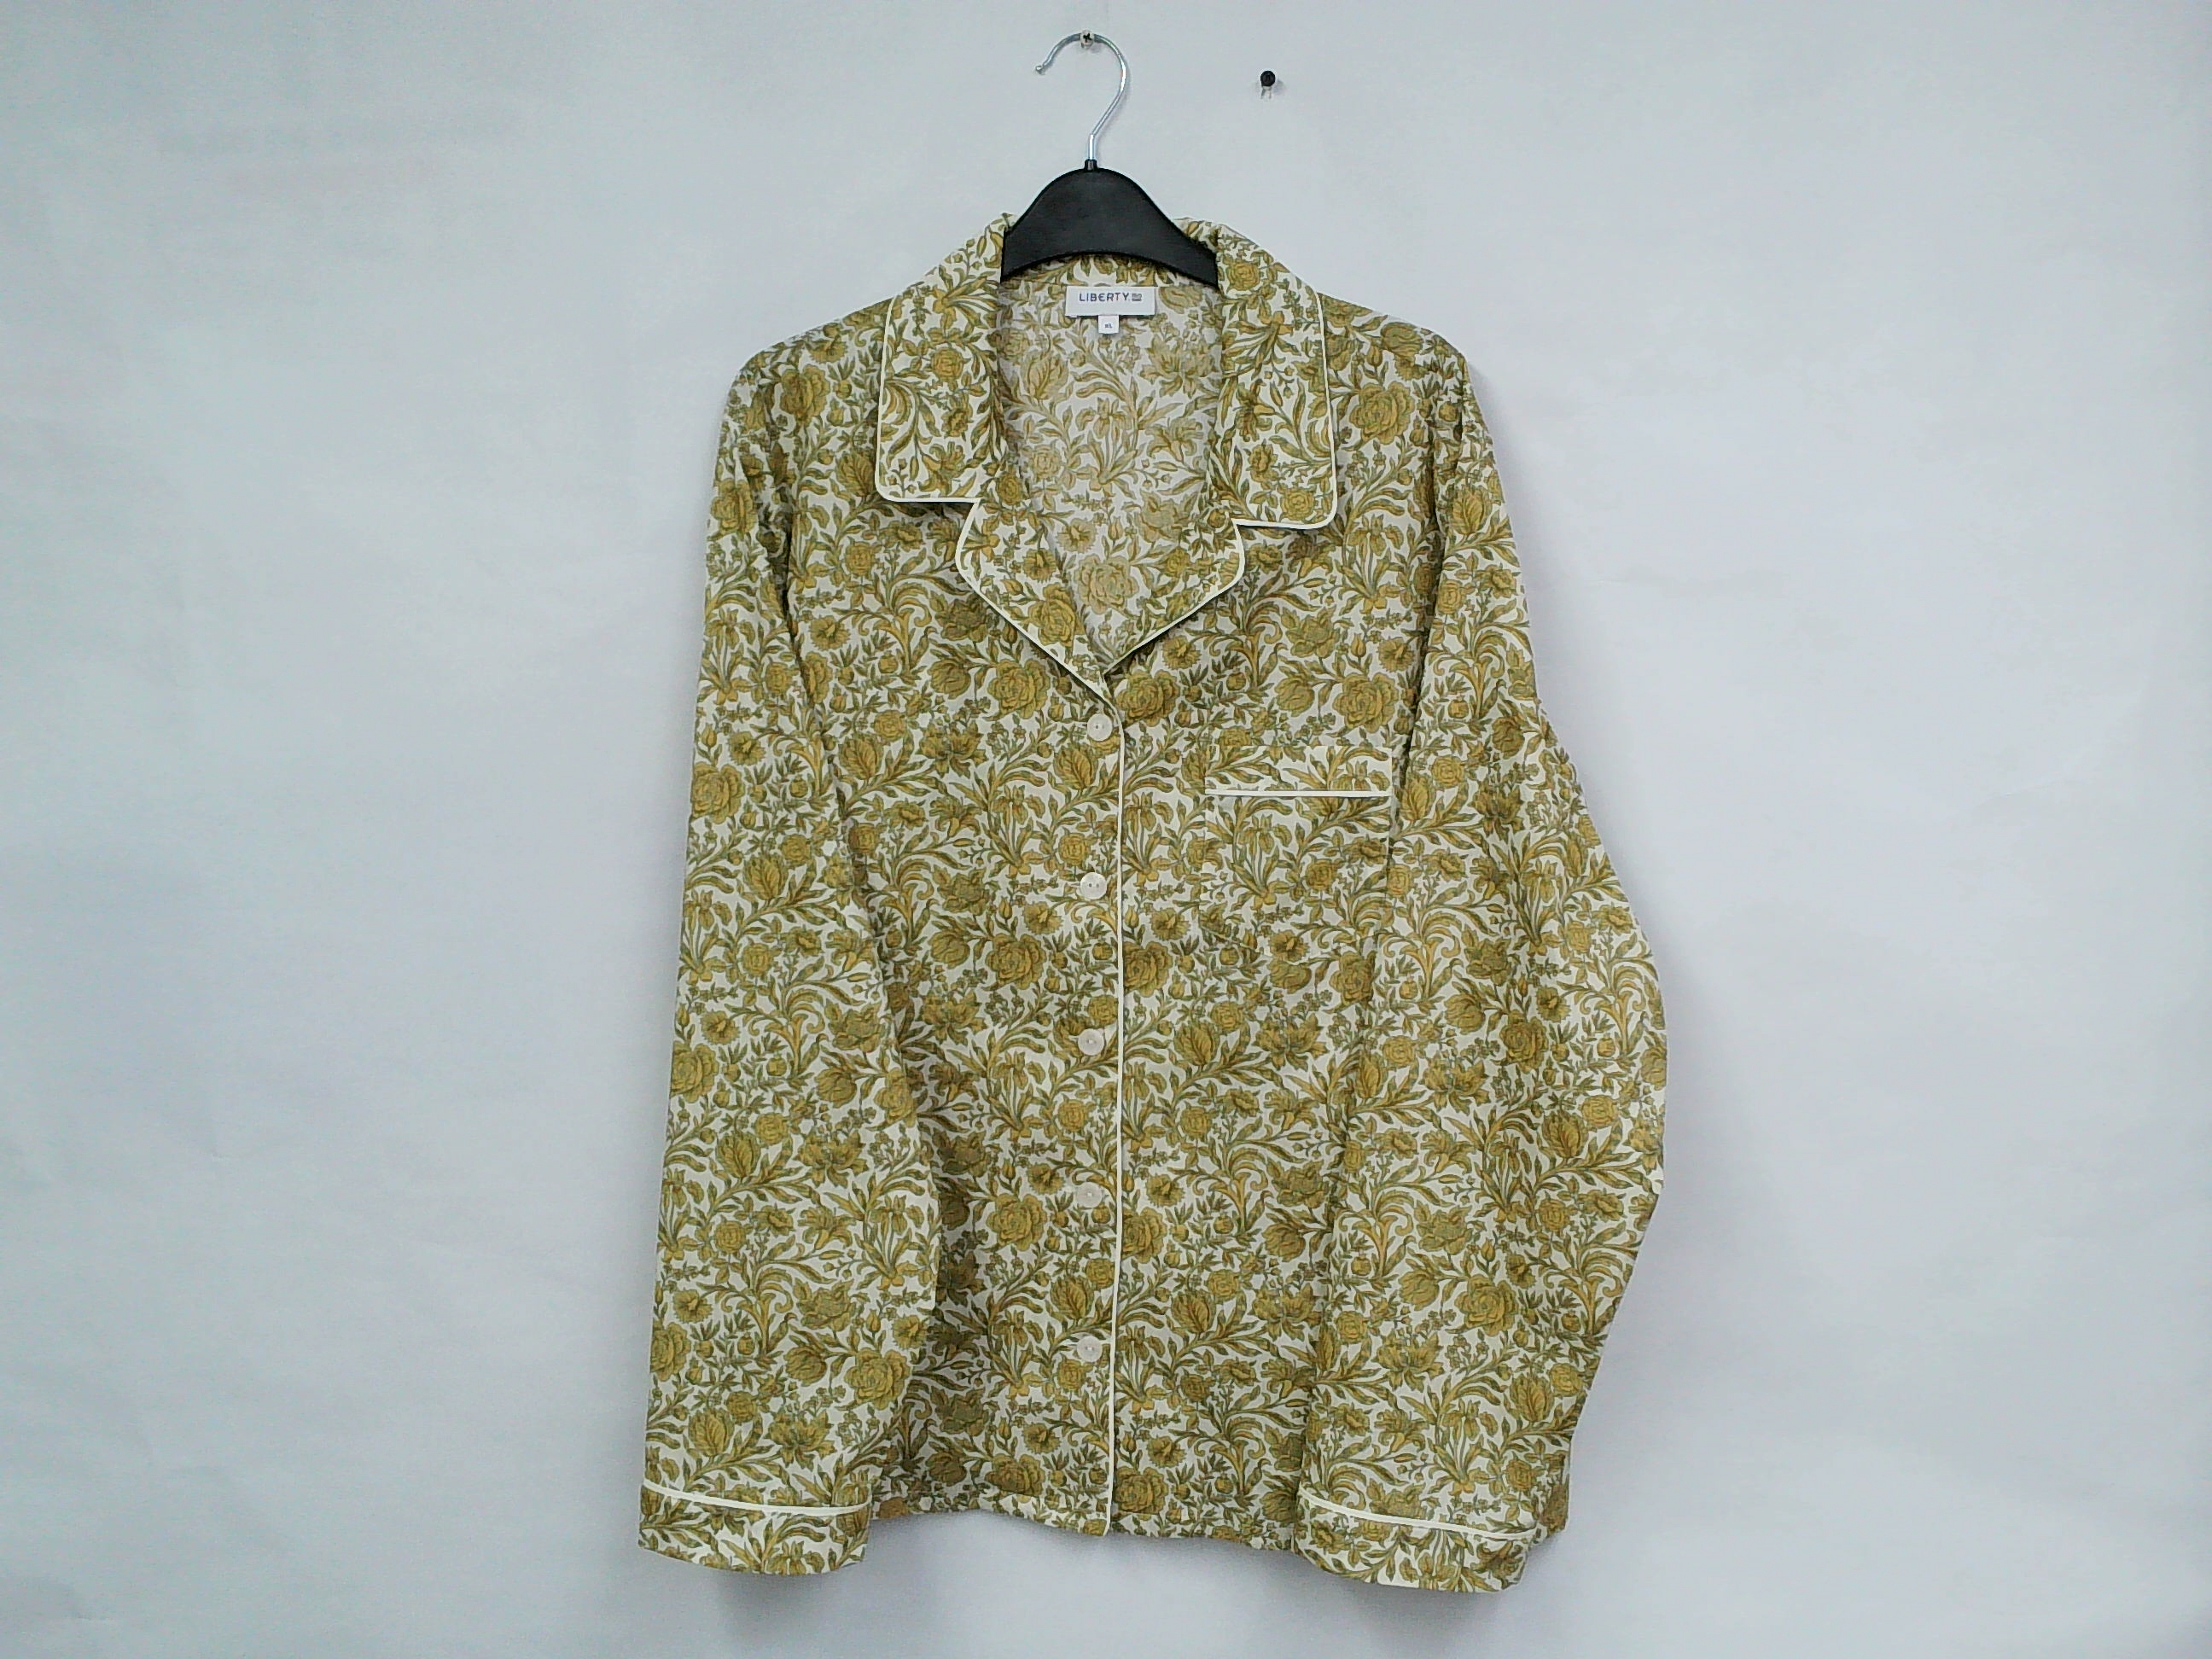seam: (641, 1445, 881, 1546)
